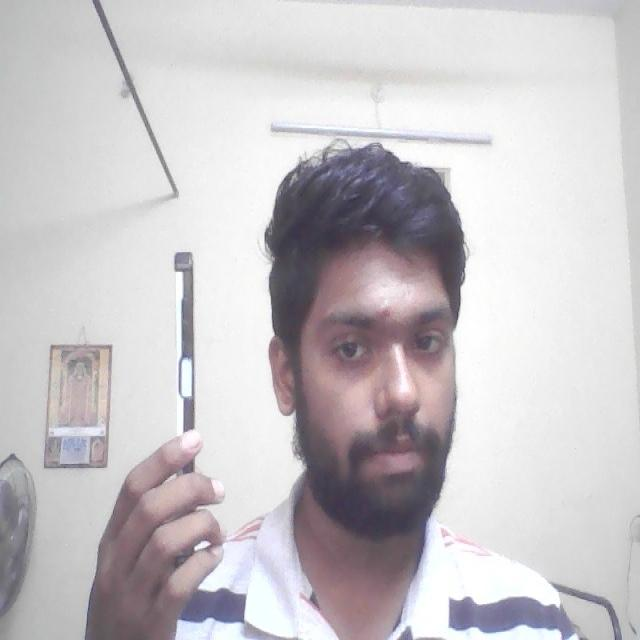Mobile: (167, 239, 200, 478)
